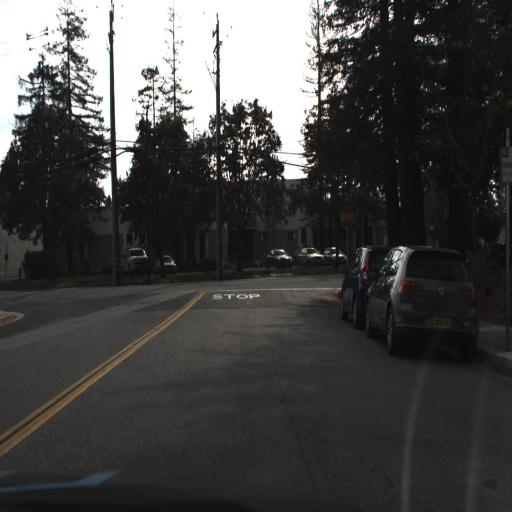car: (365, 240, 483, 362), (363, 242, 481, 360), (337, 244, 388, 330), (336, 238, 365, 330), (262, 244, 295, 276), (121, 240, 150, 274), (298, 242, 325, 273), (155, 254, 179, 278)
